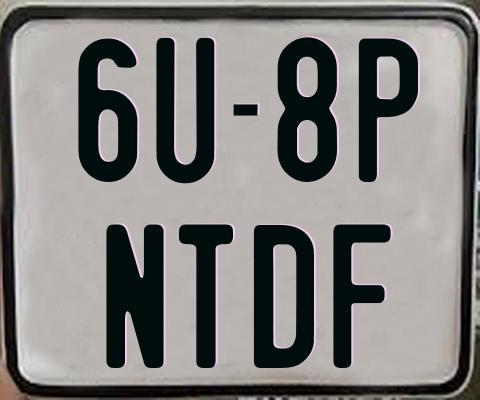6: (77, 38, 141, 187)
8: (276, 34, 342, 184)
D: (252, 224, 314, 368)
F: (332, 224, 392, 372)
N: (106, 223, 165, 372)
P: (359, 37, 418, 181)
T: (176, 224, 233, 374)
U: (156, 37, 215, 188)
